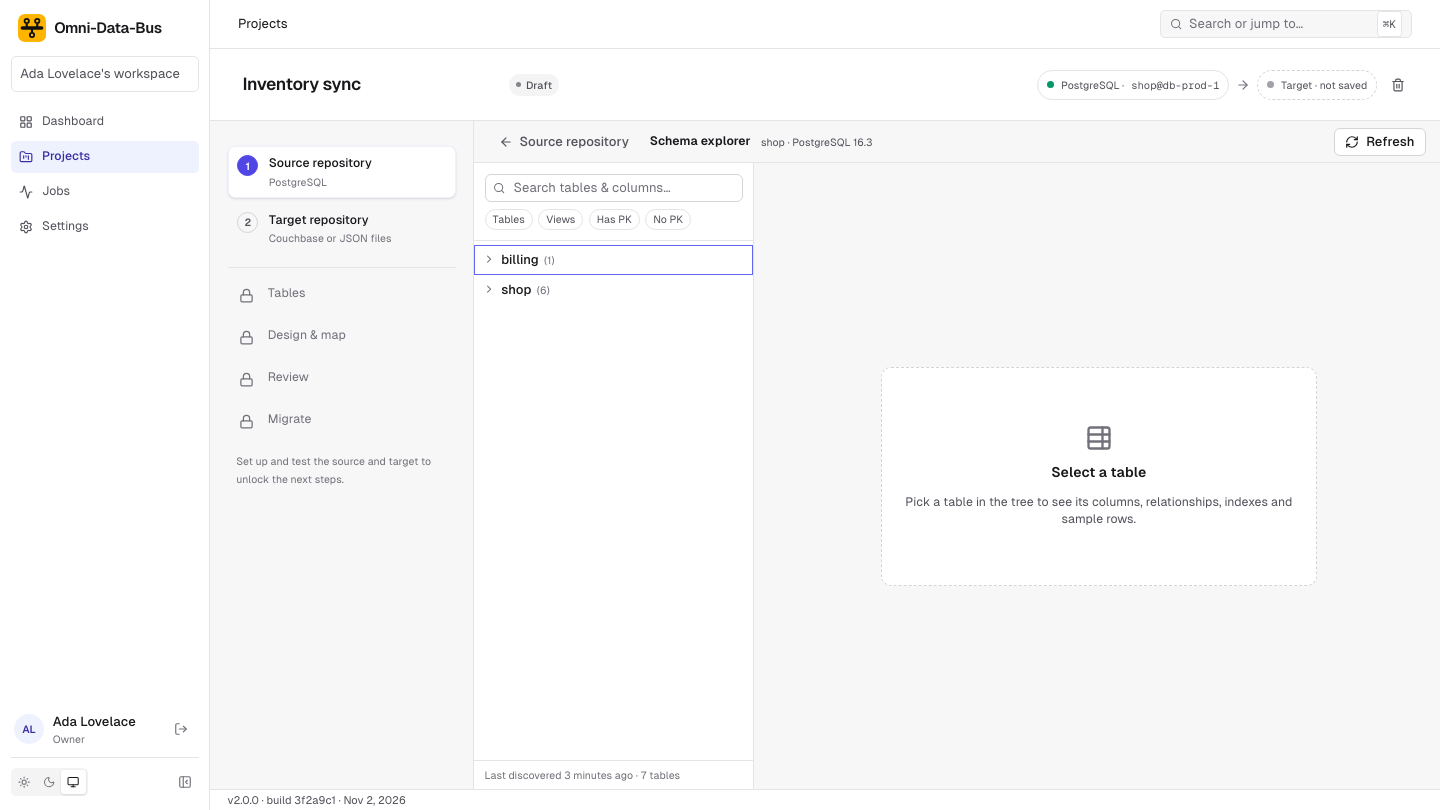
Test: SchemaExplorerPage › search and filter chips narrow the tree
Type "zzzz" into the field labelled "Search tables & columns…" at x=614, y=188, box [484,174,742,202]
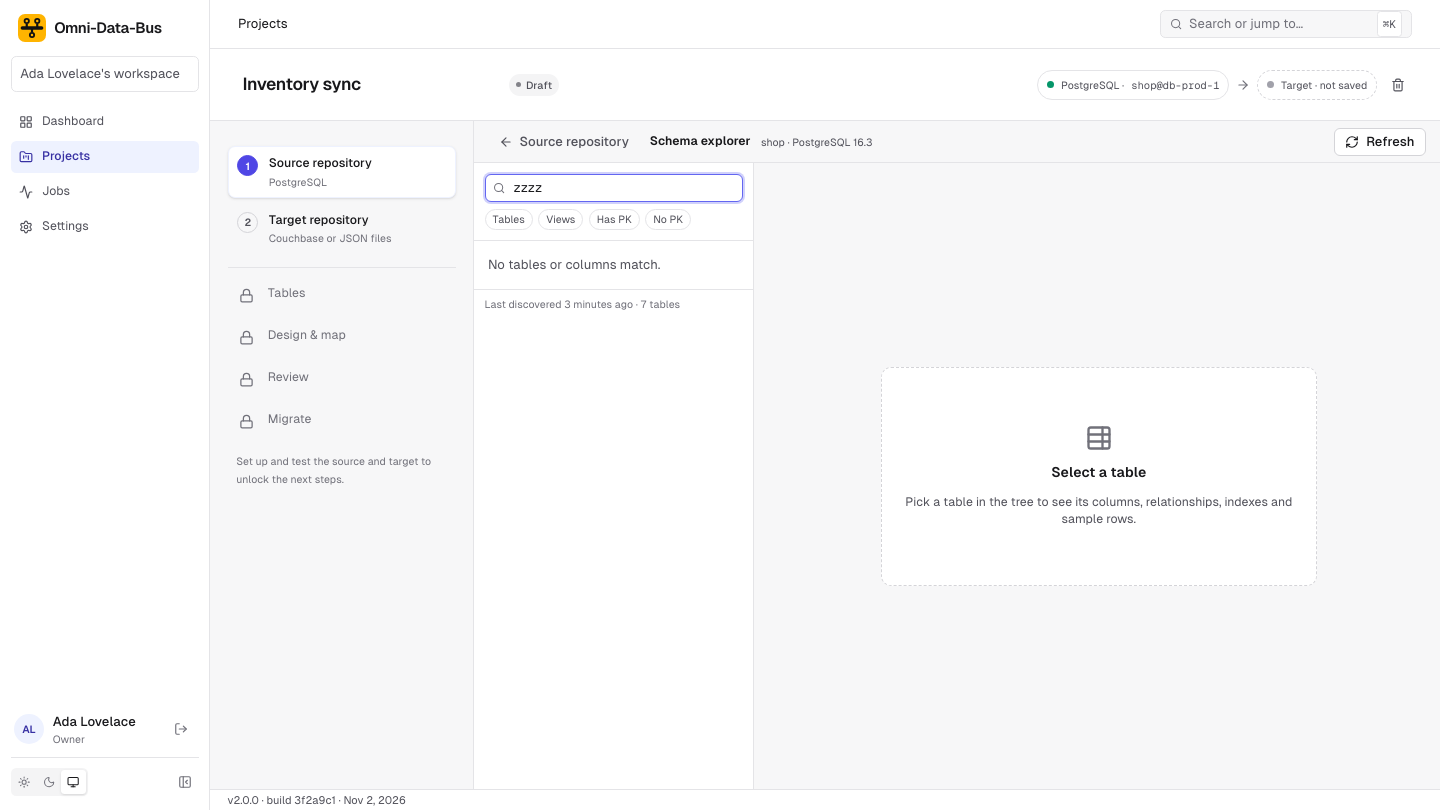
Check: the text "No tables or columns match." is shown, box [488,257,660,272]
Clear the field named "Search tables & columns…" at x=614, y=188, box [484,174,742,202]
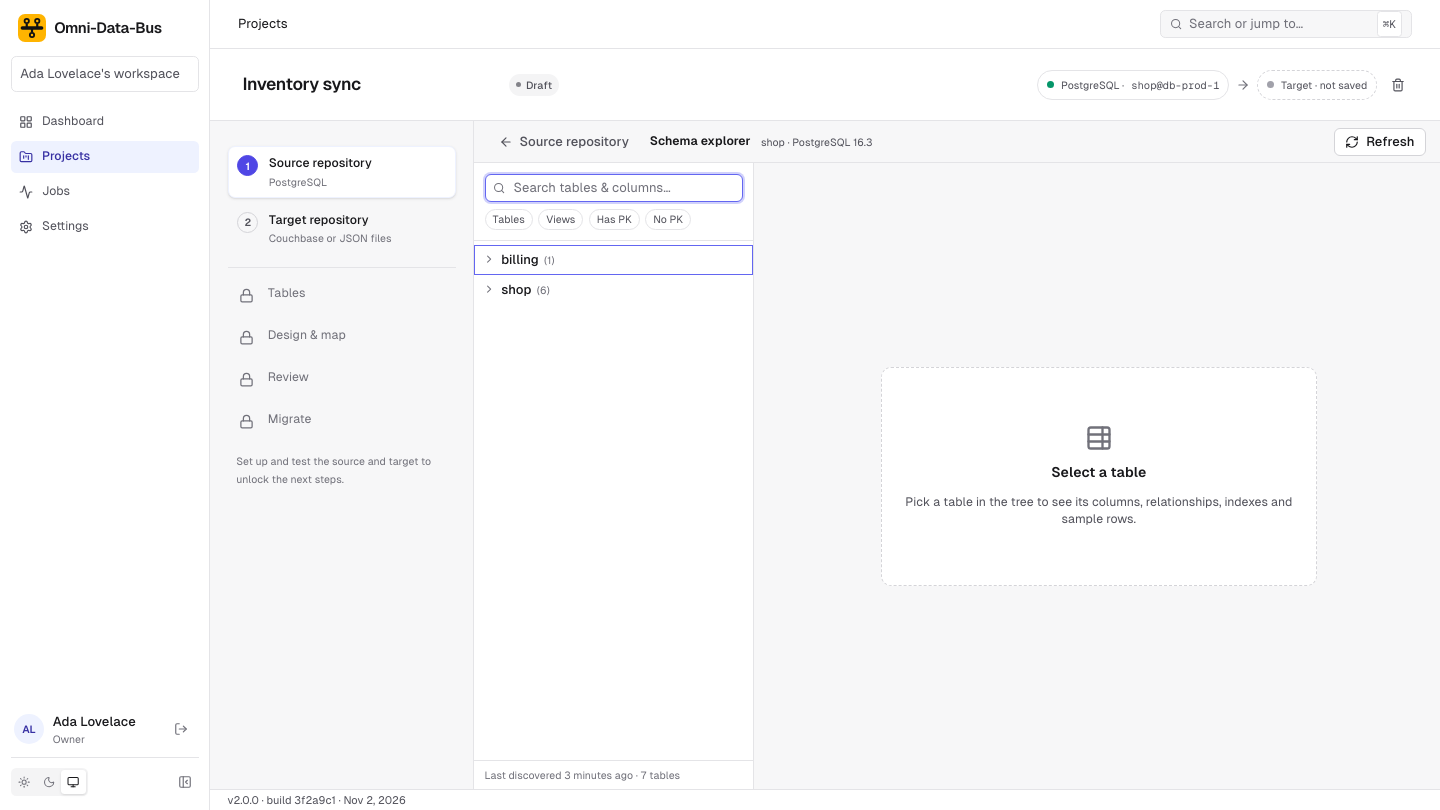
Click the button "Views" at x=561, y=219, box [538,208,584,230]
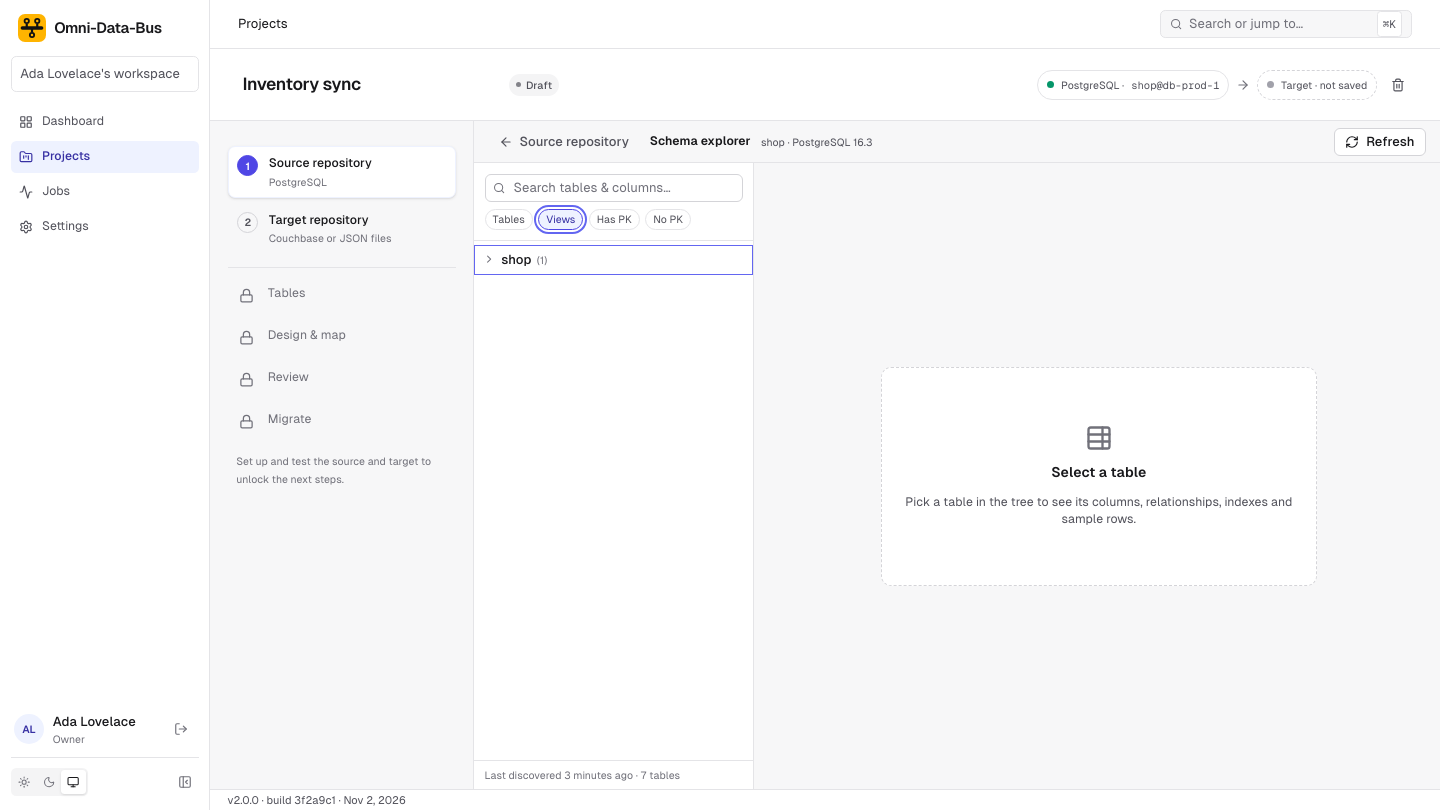
Check: the list items read "shop(1)", in this order, box [474,244,753,274]
